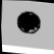correct: (14, 9, 43, 37)
